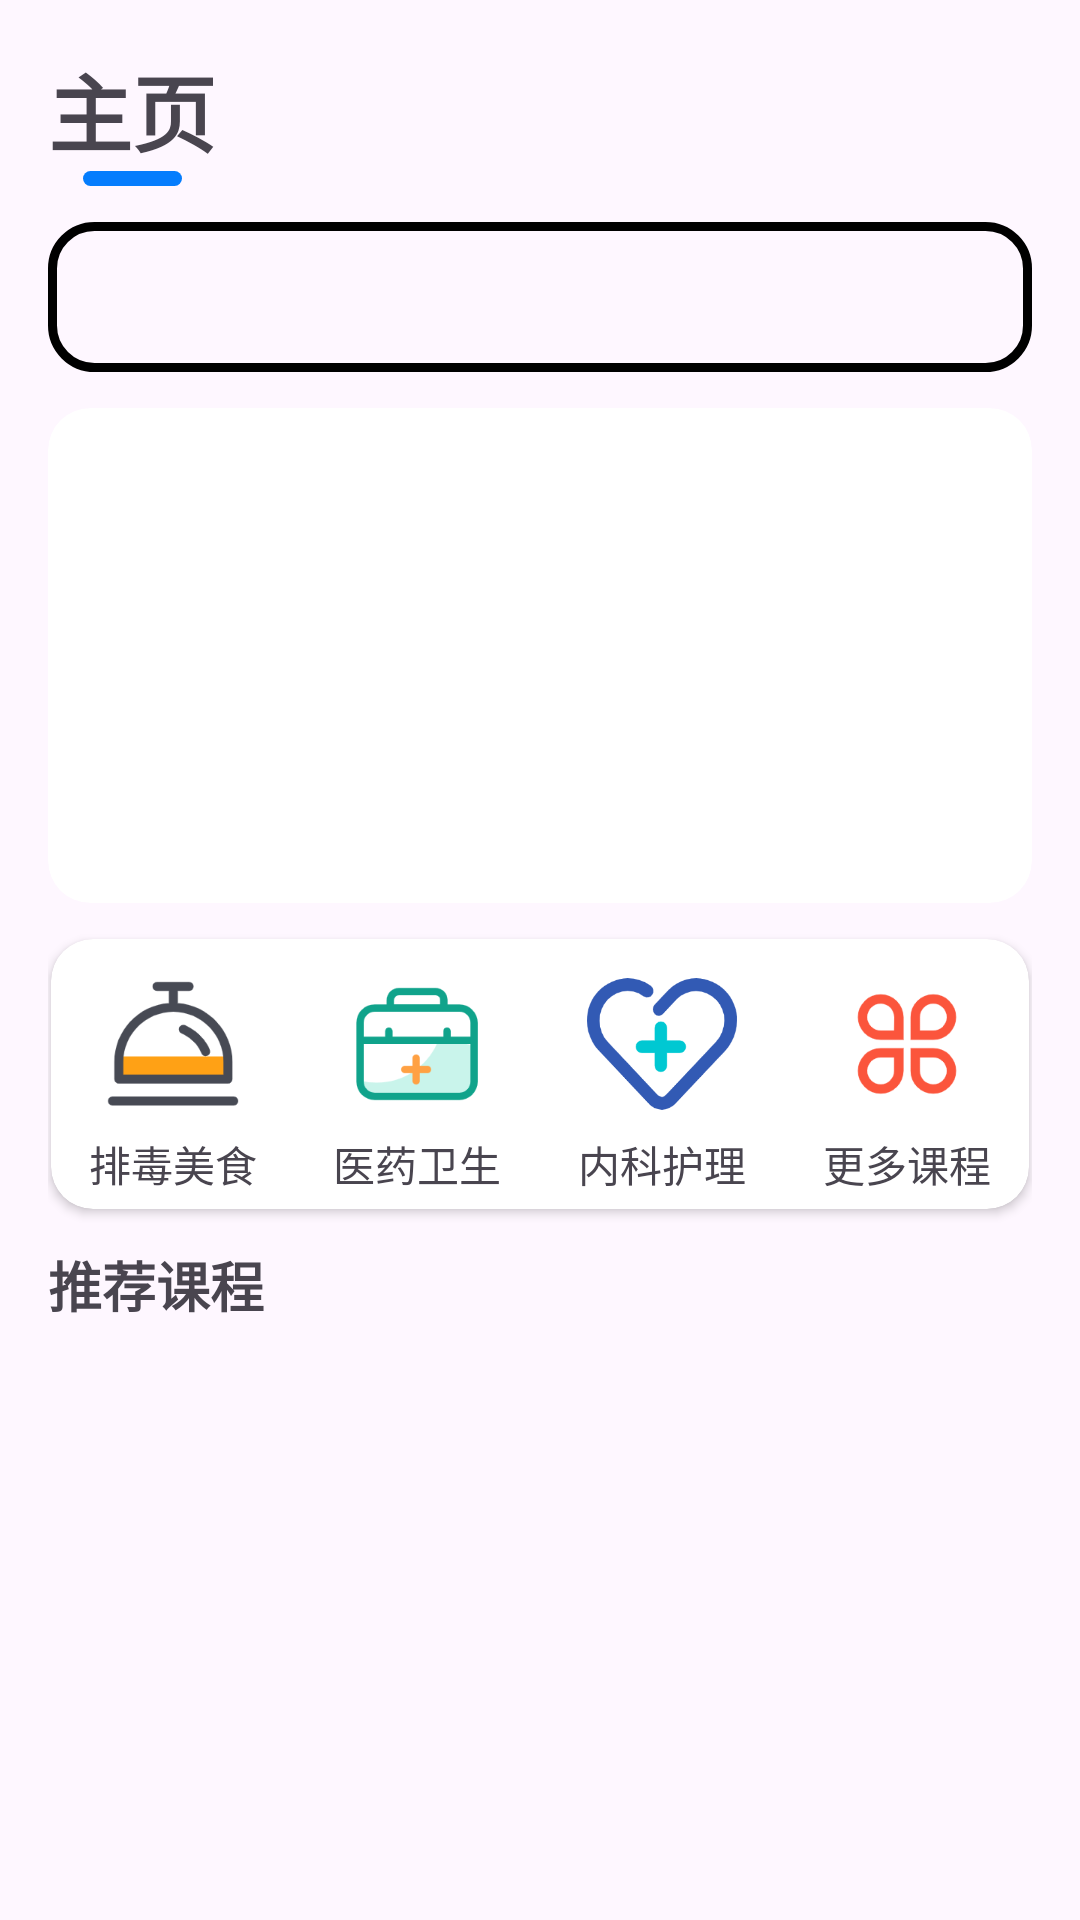

Icon bounding boxes for this 1080 x 1920 phone screenshot, format (x1, y1, x2, y2):
food: (108, 982, 239, 1106)
more: (857, 994, 957, 1094)
